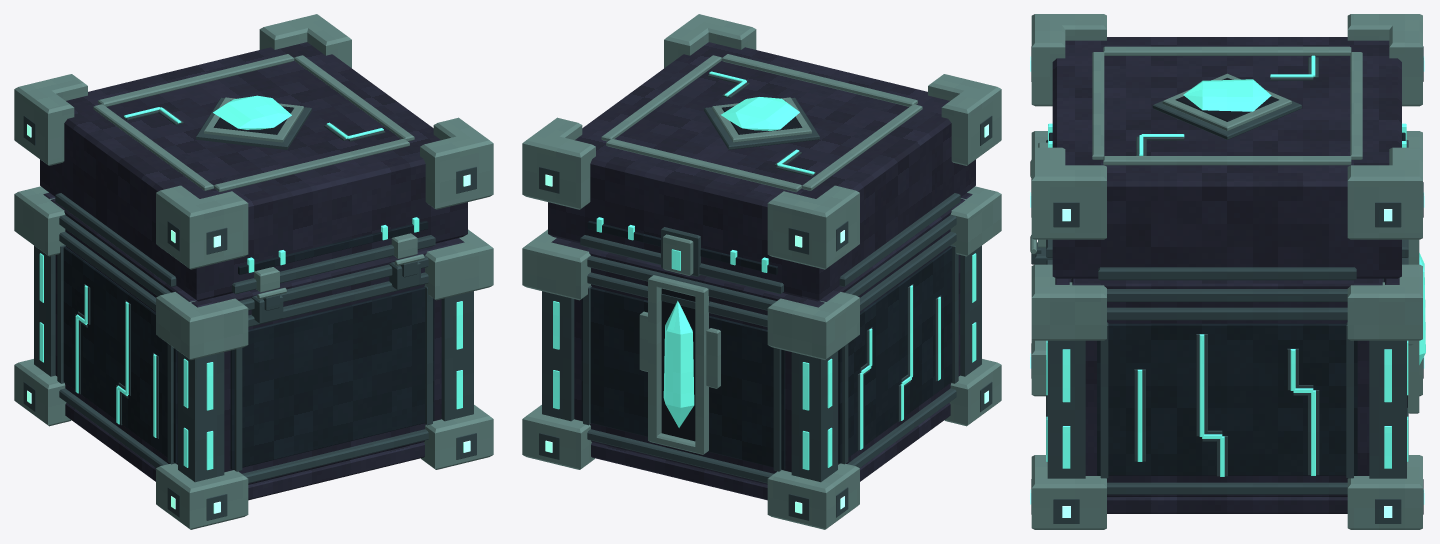
The model's file is relic.glb.
3 views of the same model, side by side, from view 1: azimuth 30°, elevation 25°; view 2: azimuth 150°, elevation 25°; view 3: azimuth 270°, elevation 25° (orthographic). The views are drawn at different scales.
Visible parts, largest first — view 1: LidAssembly.Shell, Body.Panel, Body.Edge, LidAssembly.Metal, Body.Metal, Body.Shell, LidAssembly.Edge, Body.Crystal, LidAssembly.Crystal, LidAssembly.Panel; view 2: LidAssembly.Shell, Body.Panel, Body.Edge, Body.Metal, LidAssembly.Metal, Body.Shell, LidAssembly.Edge, Body.Crystal, LidAssembly.Crystal, Body.Interior, LidAssembly.Panel; view 3: LidAssembly.Shell, Body.Panel, LidAssembly.Metal, Body.Edge, Body.Metal, Body.Shell, LidAssembly.Edge, Body.Crystal, LidAssembly.Crystal, LidAssembly.Interior.
Boxes of the visible parts, left/top/right/bottom form: LidAssembly.Shell: left=40, top=42, right=467, bottom=301; Body.Panel: left=63, top=246, right=434, bottom=469; Body.Edge: left=23, top=215, right=476, bottom=520; LidAssembly.Metal: left=14, top=14, right=493, bottom=292; Body.Metal: left=14, top=186, right=493, bottom=529; Body.Shell: left=43, top=192, right=464, bottom=500; LidAssembly.Edge: left=23, top=97, right=476, bottom=294; Body.Crystal: left=39, top=253, right=462, bottom=470; LidAssembly.Crystal: left=124, top=95, right=419, bottom=272; LidAssembly.Panel: left=238, top=221, right=428, bottom=274; LidAssembly.Shell: left=548, top=42, right=975, bottom=301; Body.Panel: left=581, top=246, right=952, bottom=469; Body.Edge: left=539, top=215, right=992, bottom=520; Body.Metal: left=522, top=186, right=1001, bottom=529; LidAssembly.Metal: left=522, top=14, right=1001, bottom=275; Body.Shell: left=551, top=192, right=972, bottom=500; LidAssembly.Edge: left=539, top=74, right=992, bottom=294; Body.Crystal: left=553, top=253, right=976, bottom=470; LidAssembly.Crystal: left=596, top=71, right=814, bottom=272; Body.Interior: left=661, top=288, right=709, bottom=444; LidAssembly.Panel: left=587, top=221, right=777, bottom=274; LidAssembly.Shell: left=1052, top=37, right=1401, bottom=278; Body.Panel: left=1097, top=323, right=1357, bottom=475; LidAssembly.Metal: left=1031, top=14, right=1422, bottom=247; Body.Edge: left=1031, top=179, right=1423, bottom=523; Body.Metal: left=1030, top=131, right=1422, bottom=529; Body.Shell: left=1055, top=278, right=1399, bottom=513; LidAssembly.Edge: left=1031, top=46, right=1423, bottom=280; Body.Crystal: left=1046, top=253, right=1425, bottom=476; LidAssembly.Crystal: left=1048, top=55, right=1406, bottom=155; LidAssembly.Interior: left=1175, top=78, right=1278, bottom=121.
Size of the model in its own units: 0.9737 by 0.9803 by 0.9768.
7 materials, 7 textured.
